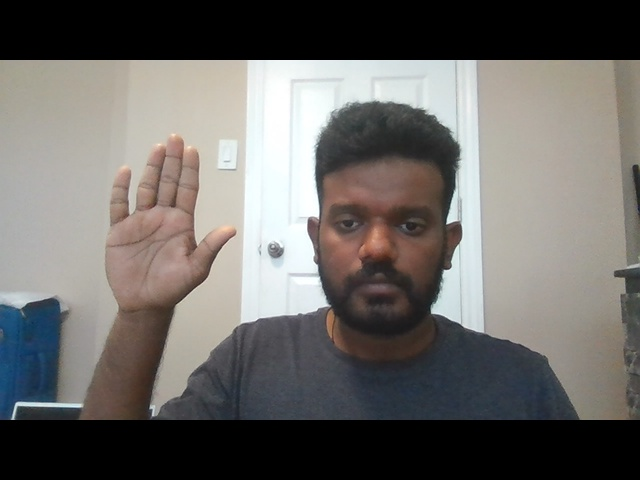hello: (102, 131, 239, 318)
